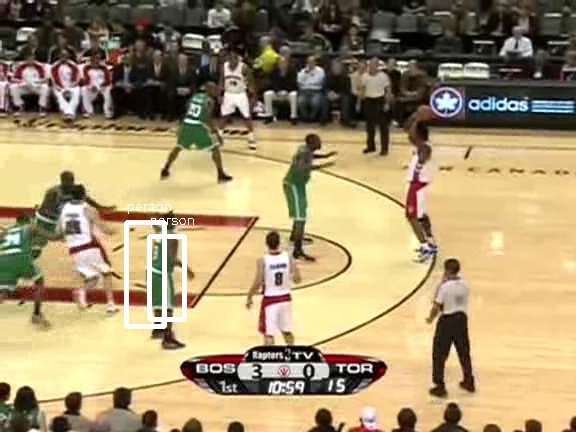person: (146, 229, 180, 310), (145, 229, 179, 310), (147, 229, 181, 310), (146, 228, 180, 309), (146, 230, 180, 311)
target_negative: (130, 378, 438, 411), (466, 267, 553, 381), (142, 218, 216, 323), (512, 81, 525, 186), (12, 403, 72, 414), (342, 429, 397, 431)
